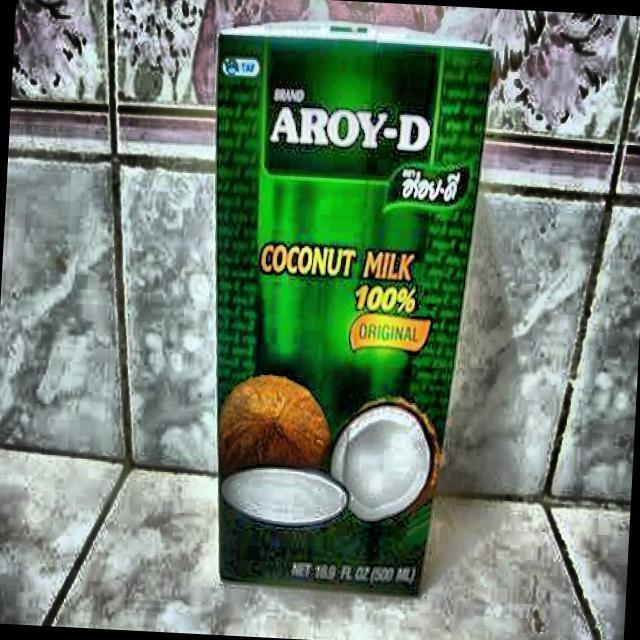cardboard: (188, 16, 496, 599)
